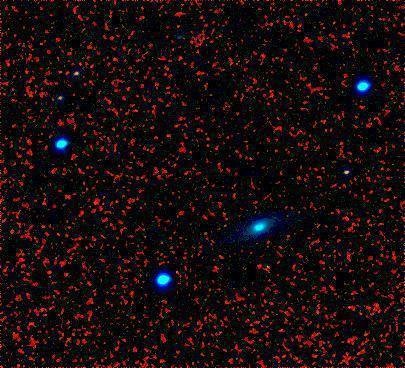star: (248, 255, 278, 285)
